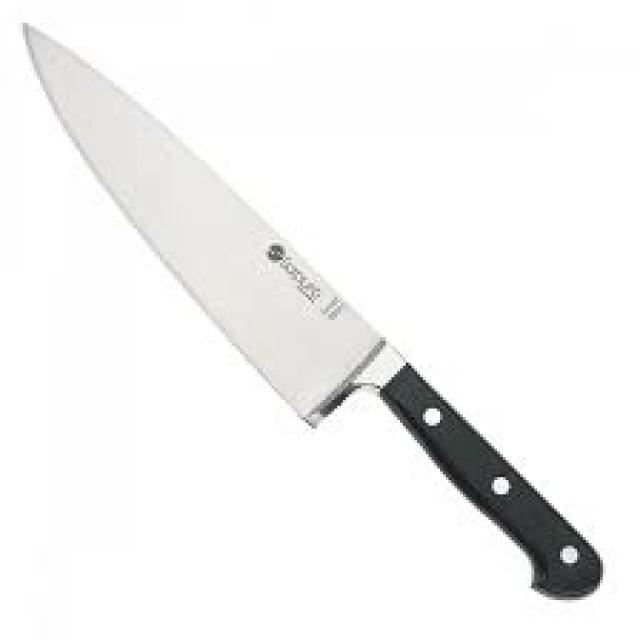knives: (14, 17, 606, 606)
